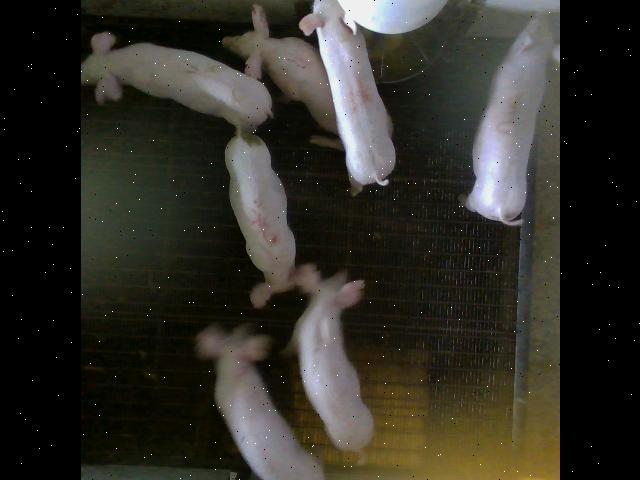pig-3: (460, 18, 552, 225)
pig-4: (299, 0, 393, 186)
pig-5: (224, 132, 295, 308)
